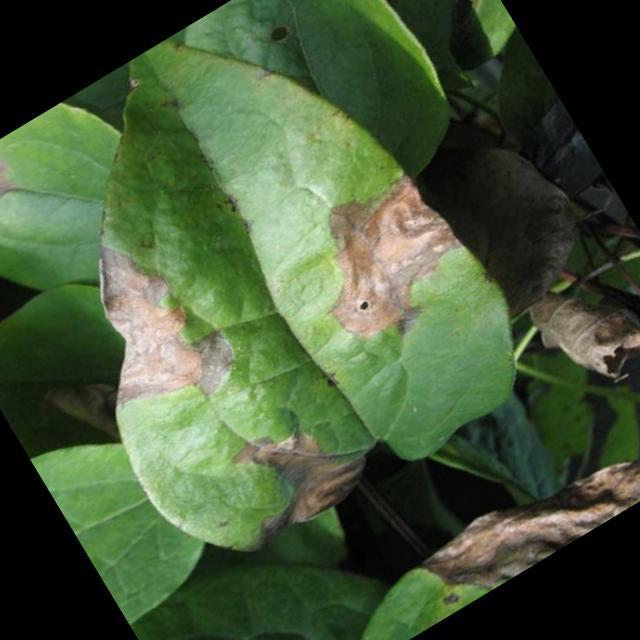Tomato bacterial spot leaf: (0, 0, 554, 602)
